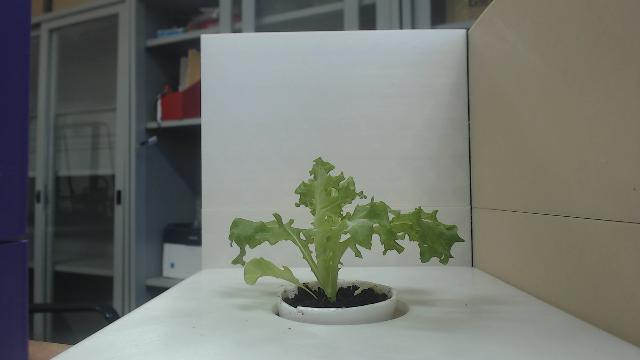Vegetative Stage: (228, 154, 467, 308)
